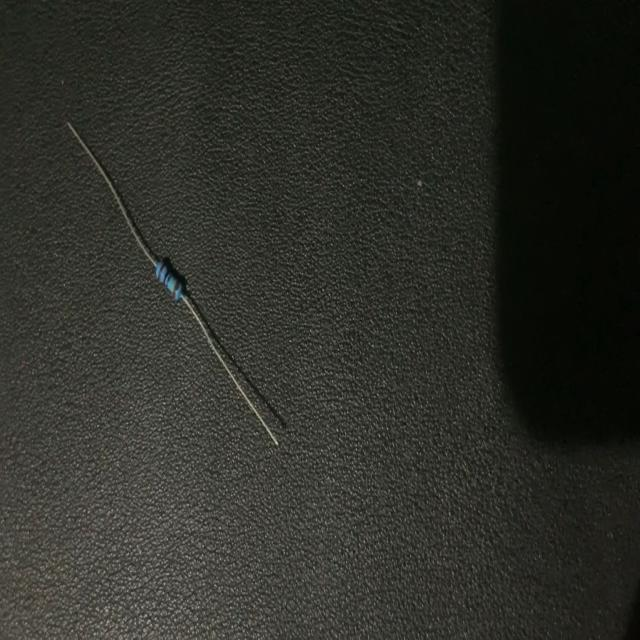resistor: (65, 113, 284, 462)
